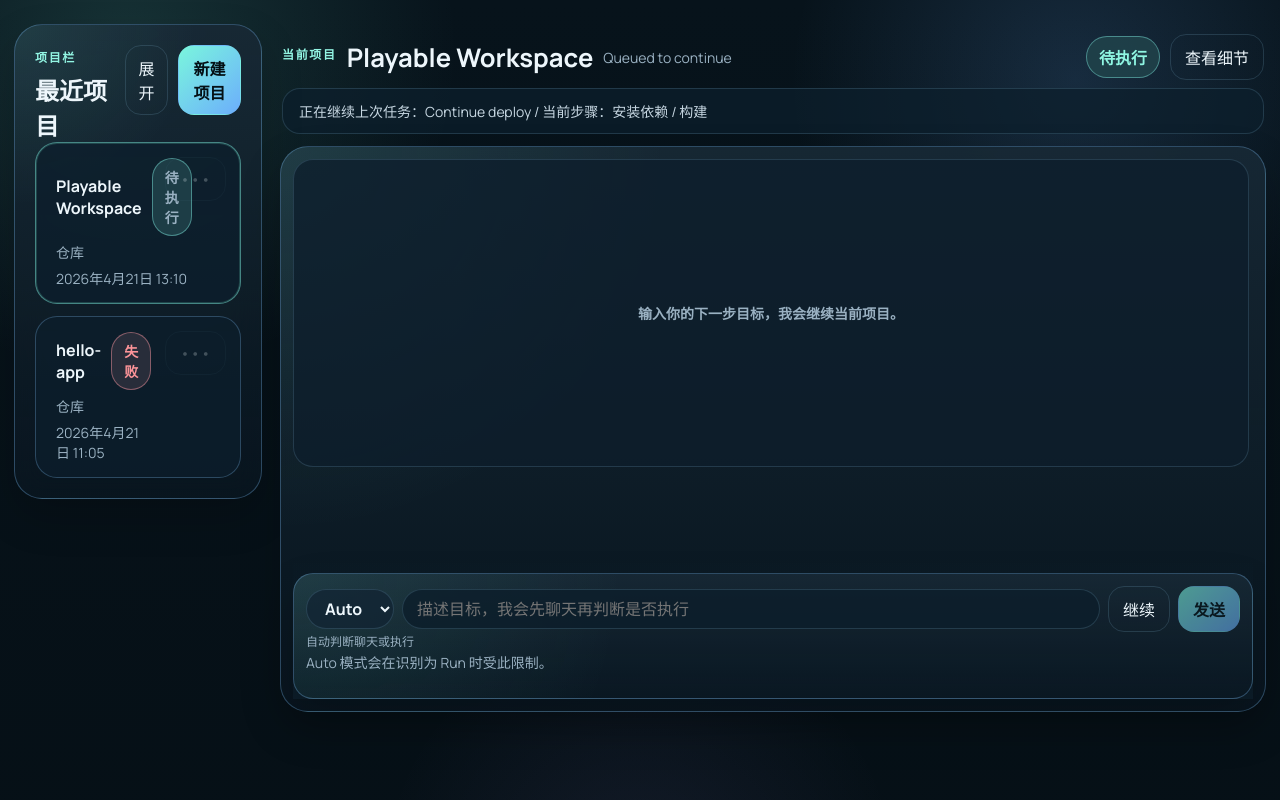
OperatorV4Page › limits Run honestly when no live provider is available without injecting a stage banner
Select "Run" in the dropdown with test id "operator-v4-mode-select" at (350, 609), box [306,589,394,629]
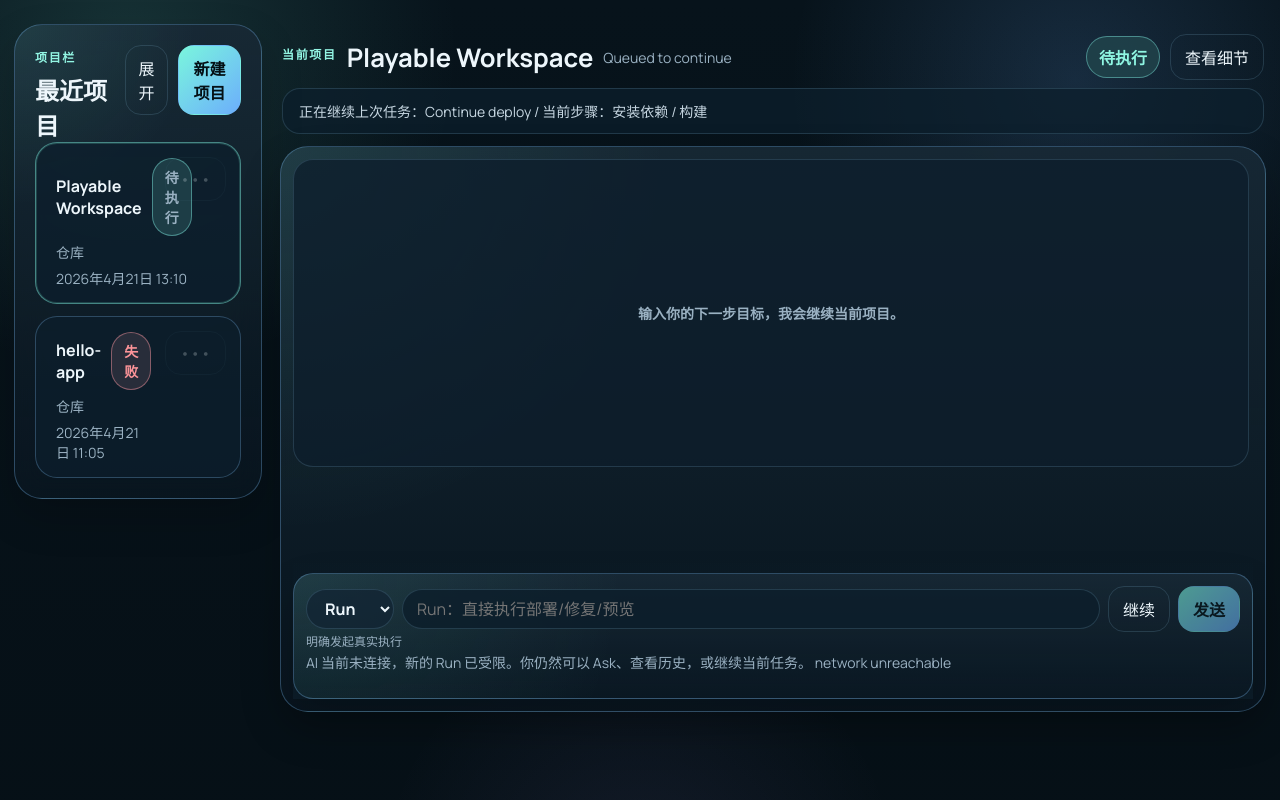
Expected: the button "发送" is disabled, [1178,586,1240,632]
Now the text "AI 当前未连接" is shown, box [306,653,951,672]
